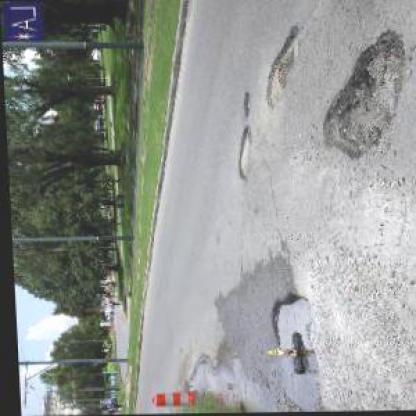pothole: (315, 29, 413, 160), (262, 291, 322, 412), (259, 24, 304, 108), (233, 125, 248, 179), (240, 90, 251, 117)
